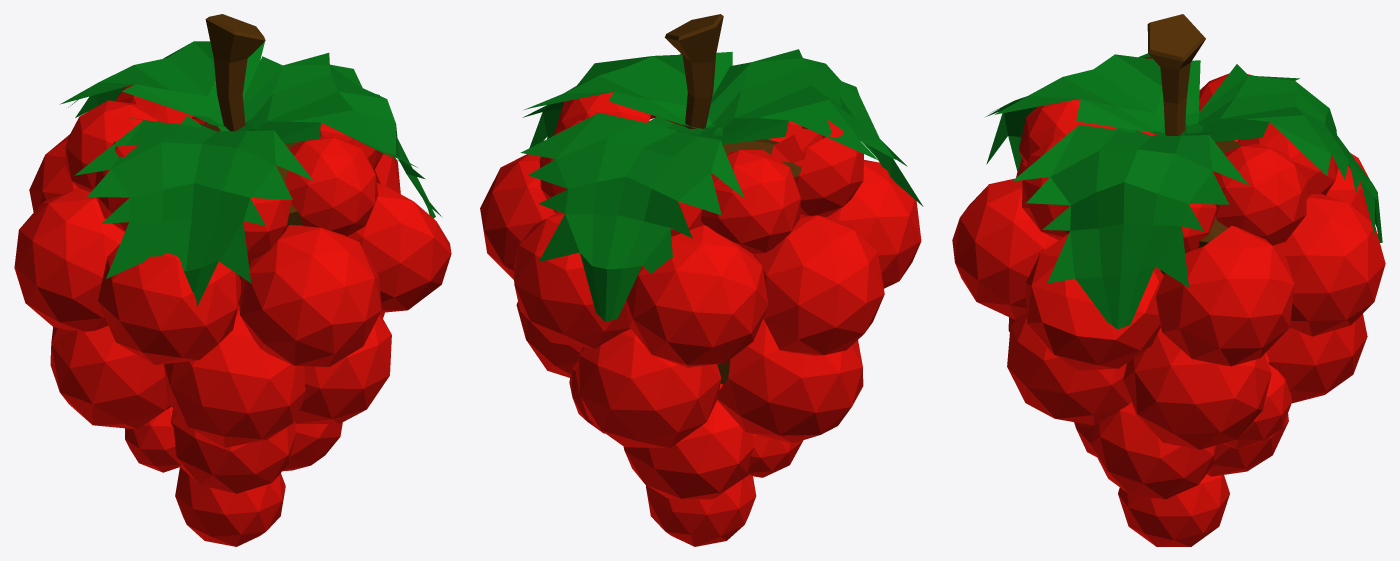
File: Berry_FIxed.fbx
The picture shows the model from 3 angles, left to right: view 1: azimuth 30°, elevation 25°; view 2: azimuth 150°, elevation 25°; view 3: azimuth 270°, elevation 25°; orthographic projection.
Visible parts, largest first — view 1: Icosphere.001; view 2: Icosphere.001; view 3: Icosphere.001.
Boxes of the visible parts, x1,y1,x2,y2 form: Icosphere.001: [14, 14, 451, 546]; Icosphere.001: [480, 14, 923, 546]; Icosphere.001: [952, 14, 1385, 546].
Size of the model in its own units: 767 by 1026 by 772.
